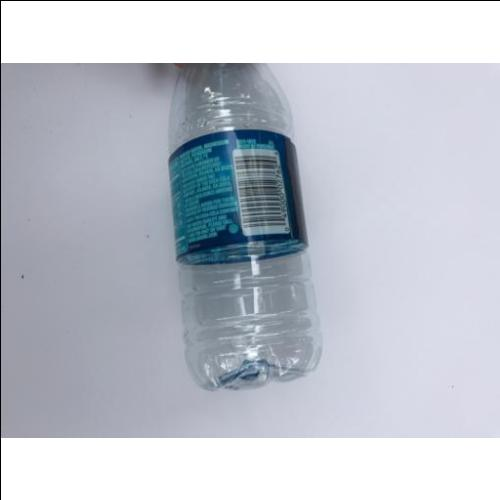plastic: (169, 66, 322, 392)
